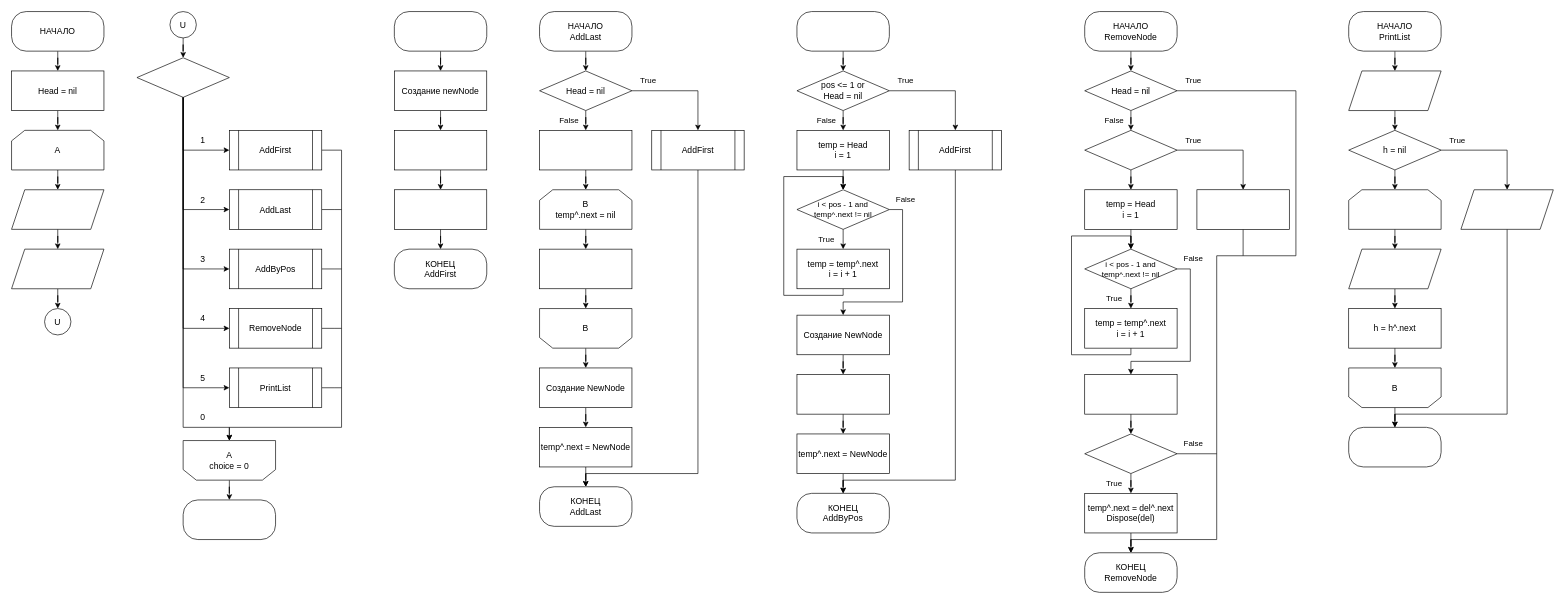
Image size: 1565x604. Some labels were removed from this diagram. Here are the shapes that lost their labels. From the top down, the box of each, then its label:
(394, 11, 487, 51): НАЧАЛО AddFirst
(796, 11, 889, 51): НАЧАЛО AddByPos
(136, 57, 229, 97): Choice = ?
(1348, 70, 1441, 111): Вывод Список:
(394, 130, 487, 170): NewNode^.next = Head
(539, 130, 632, 170): temp = Head
(1084, 130, 1177, 170): pos <= 1
(11, 189, 104, 229): Вывод case-меню
(394, 189, 487, 229): Head = NewNode
(1196, 189, 1289, 229): del = Head Head = Head^.next Dispose(del)
(1348, 189, 1441, 229): С h = nil
(1460, 189, 1553, 229): Вывод пуст
(11, 248, 104, 289): Ввод choice
(539, 248, 632, 289): temp = temp^.next
(1348, 248, 1441, 289): Вывод h^.data ->
(796, 374, 889, 414): NewNode^.next = temp^.next
(1084, 374, 1177, 414): del = temp^.next
(1084, 433, 1177, 474): del != nil
(1348, 427, 1441, 467): КОНЕЦ PrintList
(182, 499, 276, 540): КОНЕЦ
